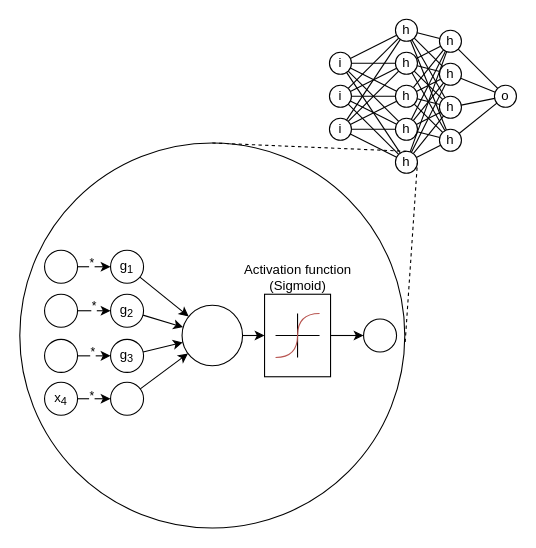
This 536x548 diagram has some shape labels left out. The shapes that lost their labels are listed below. From the top down, each one's box as (x1, y1, x2, y2) in pixels, then its label:
(43, 249, 78, 283): x 1
(43, 293, 78, 327): x 2
(43, 338, 78, 372): x 3
(181, 304, 243, 366): Sum()
(362, 318, 397, 352): y 1
(109, 381, 144, 415): g 4
